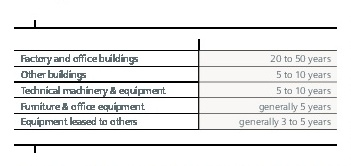table: (0, 0, 351, 166)
